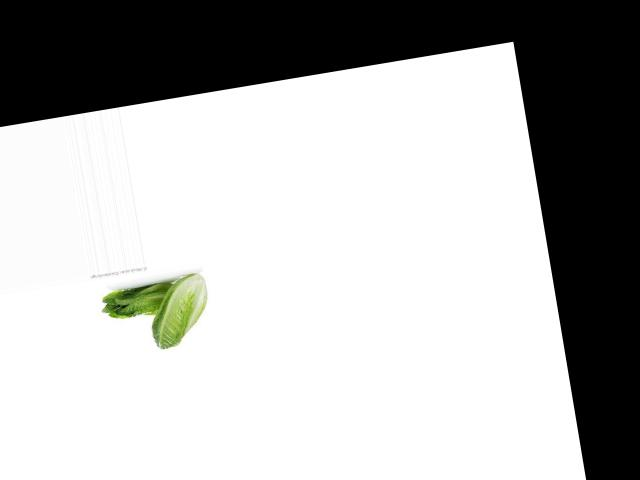lettuce: (98, 271, 177, 329)
